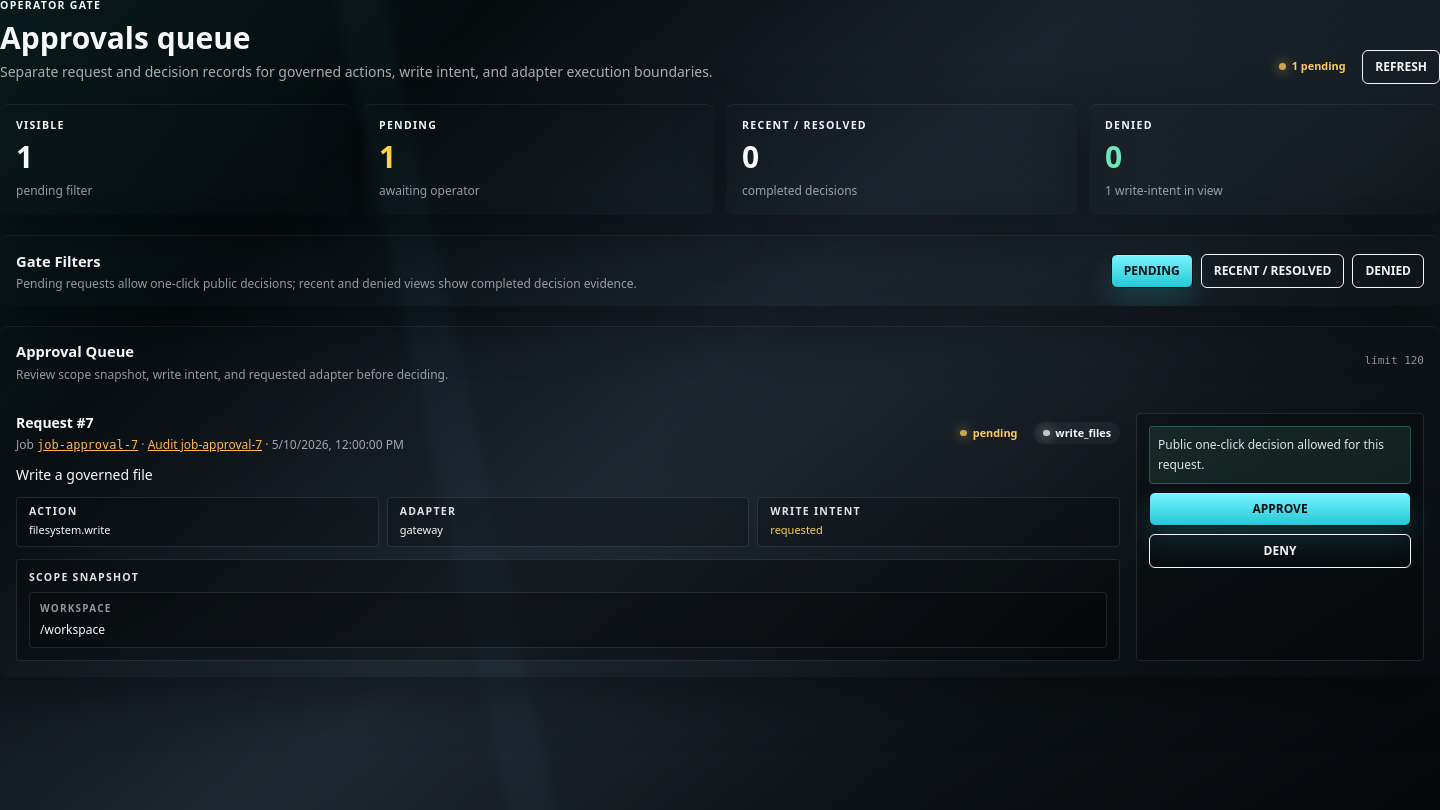
it: ApprovalsPage decision controls › refreshes and explains stale already-resolved approvals
Click the button with aria-label "Approve request 7". click: {"x": 1280, "y": 509}
box: [1149,492,1411,526]
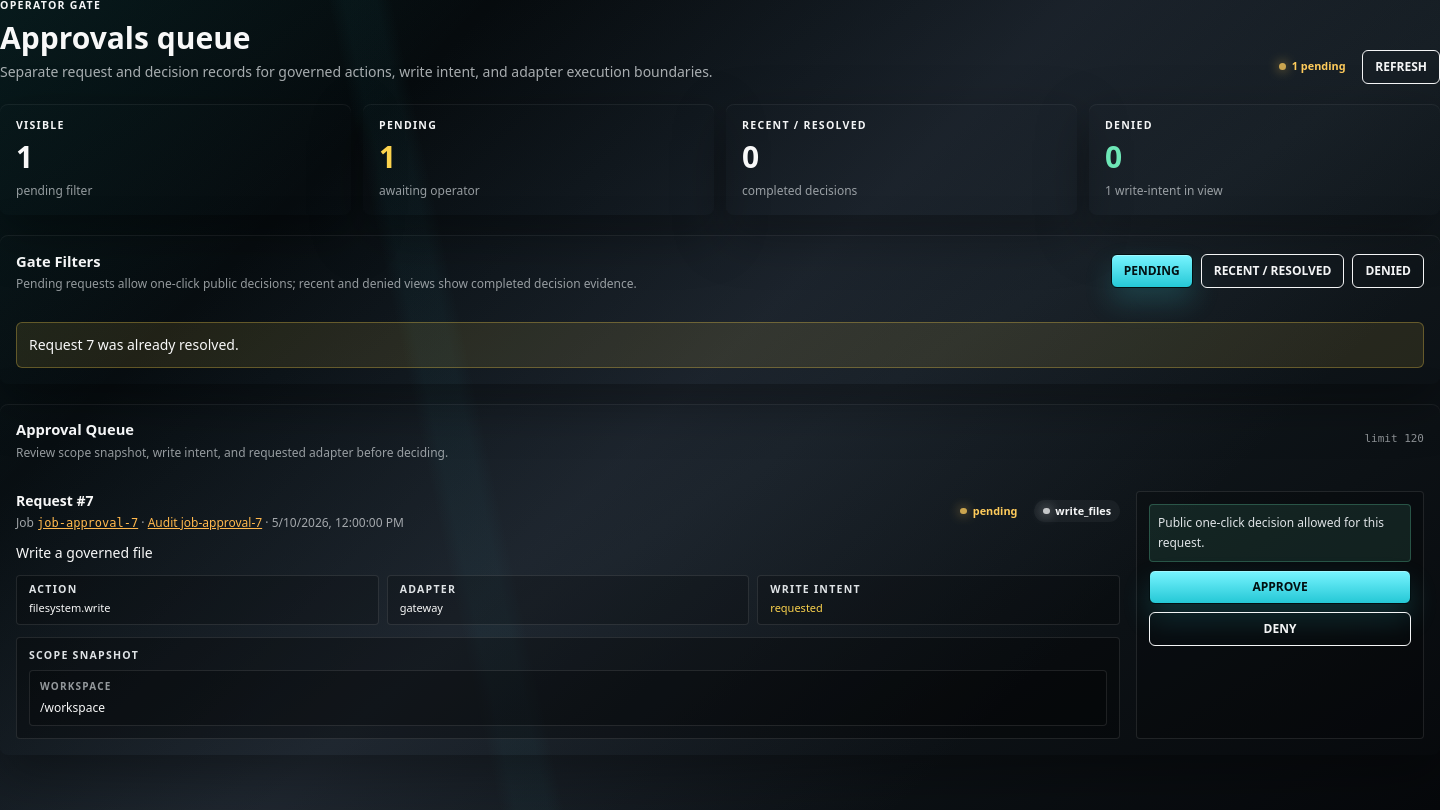
Now the text "Request 7 was already resolved." is shown, box [16,322,1424,368]
